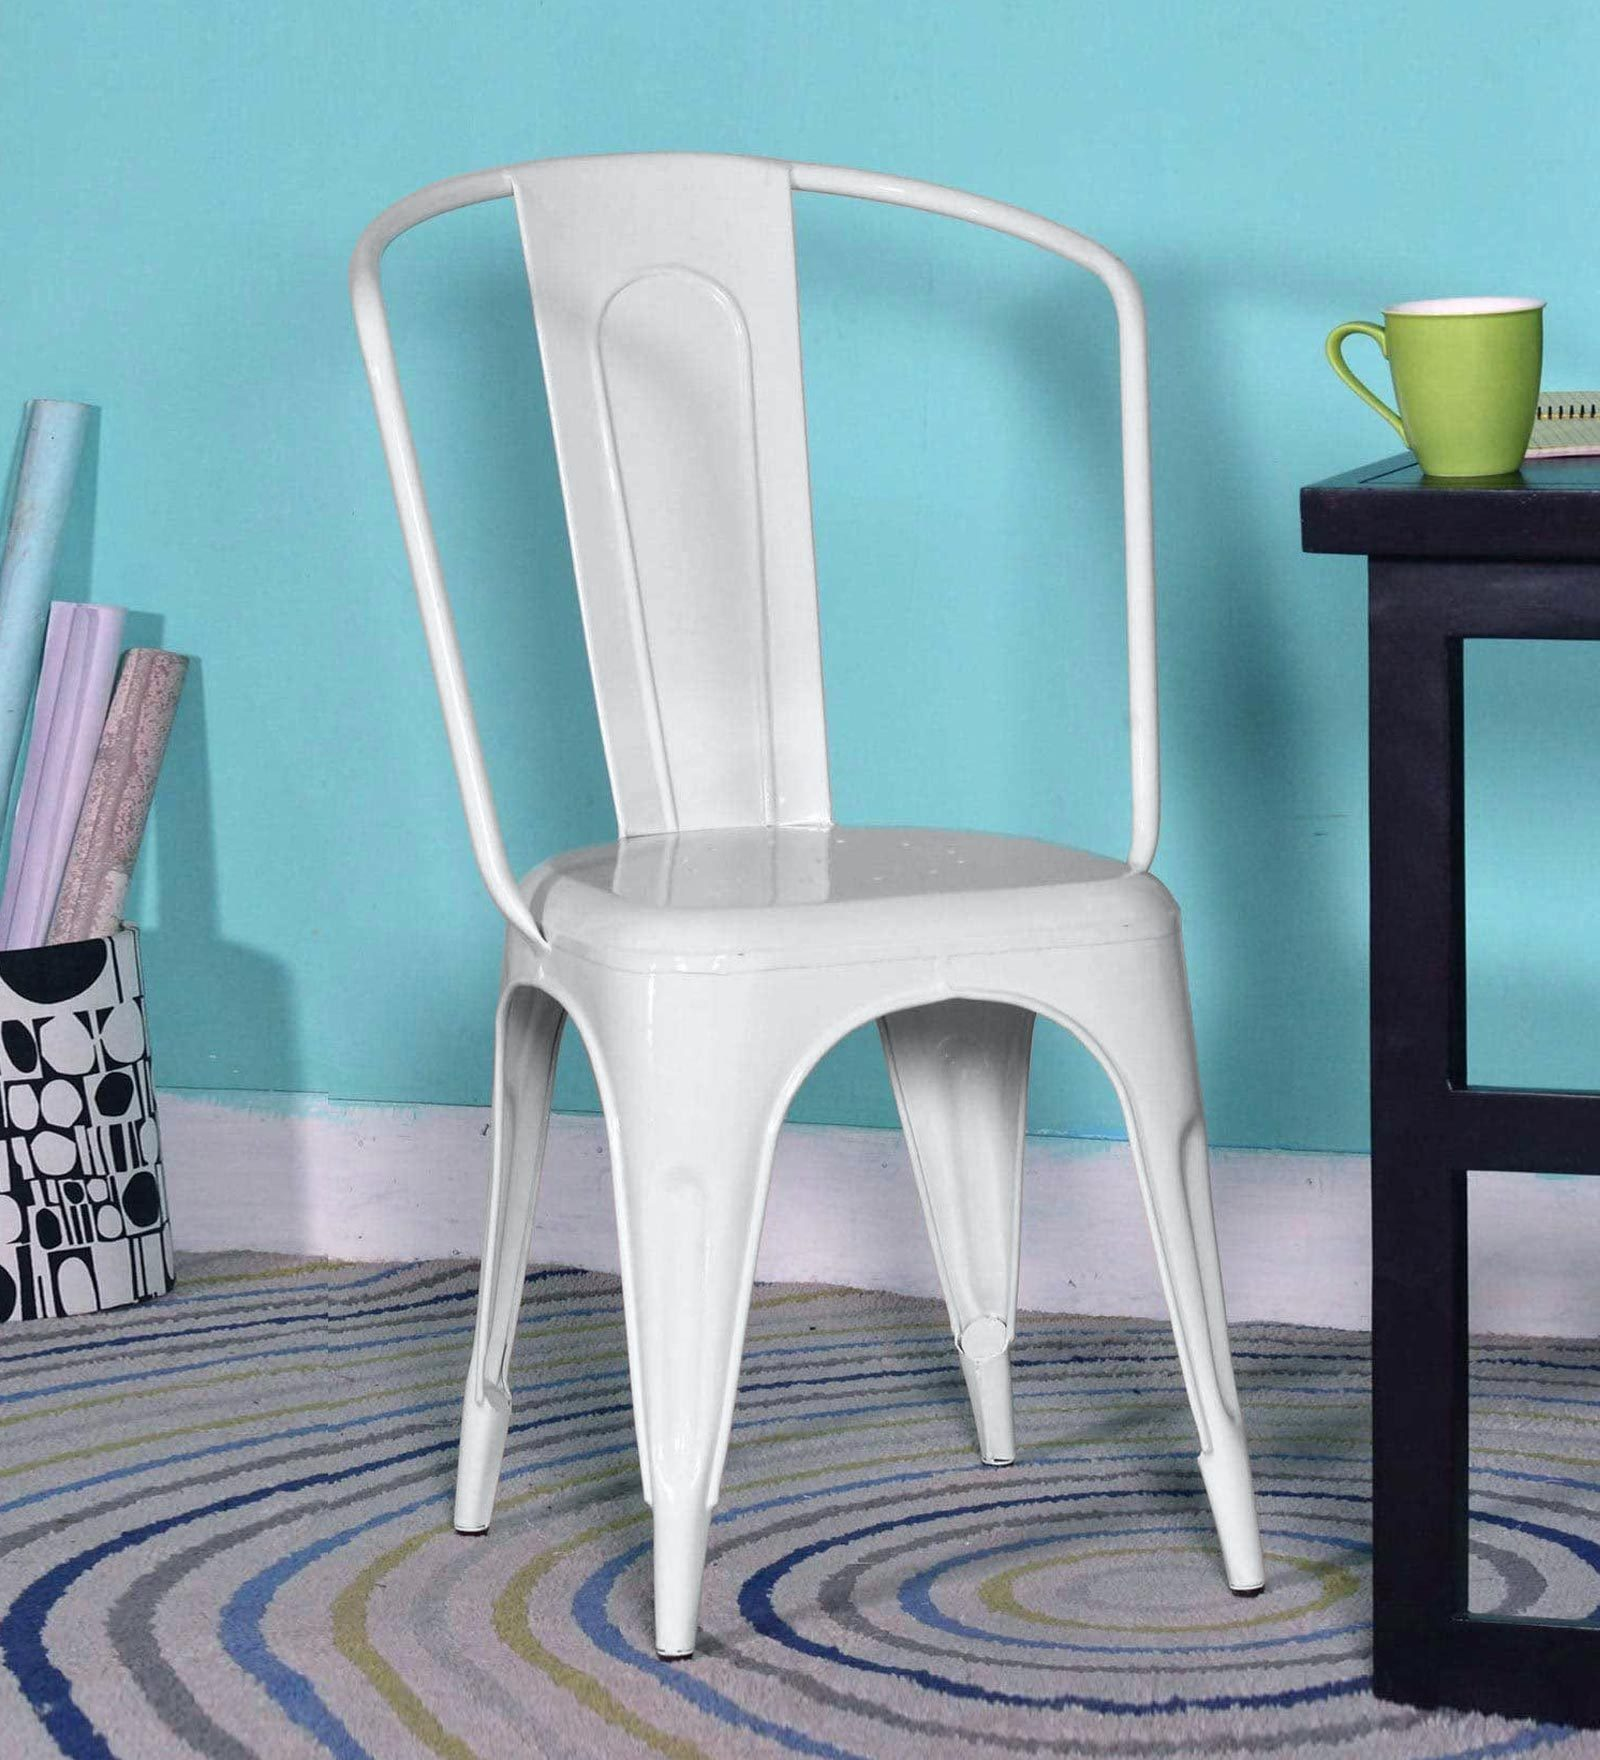Ekati Metal Chair in White Color by Bohemiana: (293, 120, 1341, 1680)
